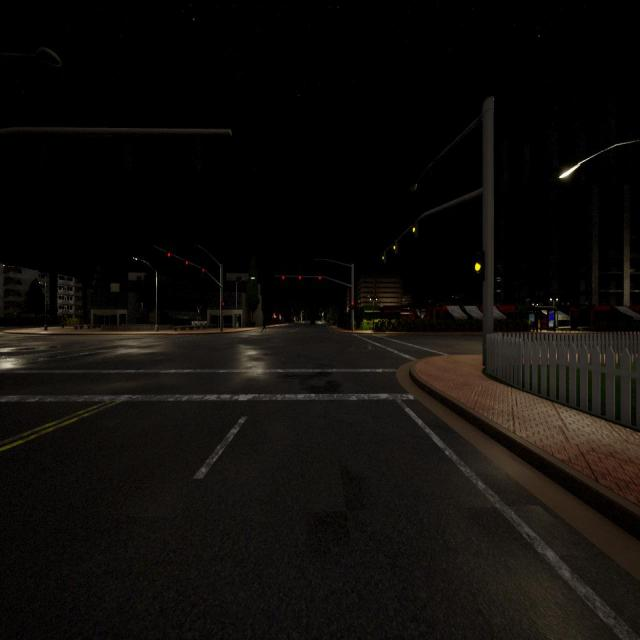Pedestrian: (261, 316, 266, 334)
Vehicle: (310, 319, 315, 326)
traffic_light: (475, 251, 485, 275), (412, 222, 418, 237), (393, 240, 398, 254), (382, 251, 386, 263), (167, 252, 171, 257), (318, 276, 322, 281), (352, 301, 354, 310), (185, 260, 189, 264), (222, 302, 224, 310), (298, 276, 302, 280), (282, 275, 285, 280), (202, 269, 204, 272)
